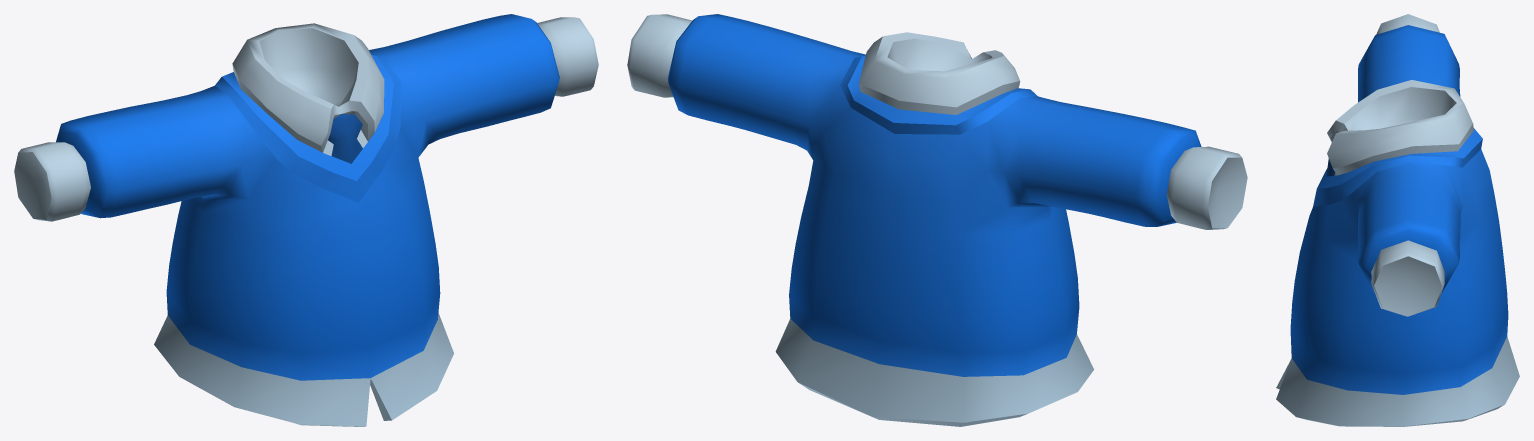
The model's file is Top_41.fbx.
The picture shows the model from 3 angles, left to right: view 1: azimuth 30°, elevation 25°; view 2: azimuth 150°, elevation 25°; view 3: azimuth 270°, elevation 25°; orthographic projection. The views are drawn at different scales.
Parts seen in each view (by area): view 1: Top_41; view 2: Top_41; view 3: Top_41.
Part boxes in pixels (<box>): Top_41: <box>14,14,598,426</box>; Top_41: <box>627,14,1247,426</box>; Top_41: <box>1276,14,1519,426</box>.
Size of the model in its own units: 94.82 by 54.29 by 40.36.
